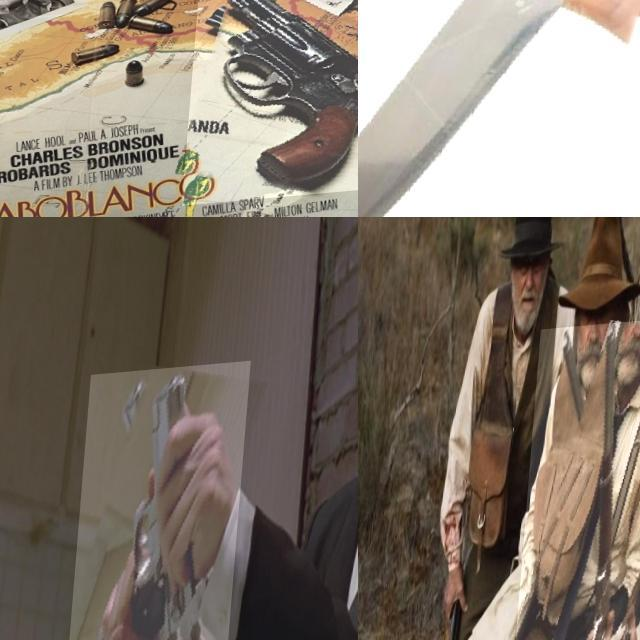-: (358, 0, 640, 217)
gun-knife-thesis - v11 Yolov5 augmented: (74, 366, 256, 640), (517, 324, 640, 640), (190, 0, 358, 214)
